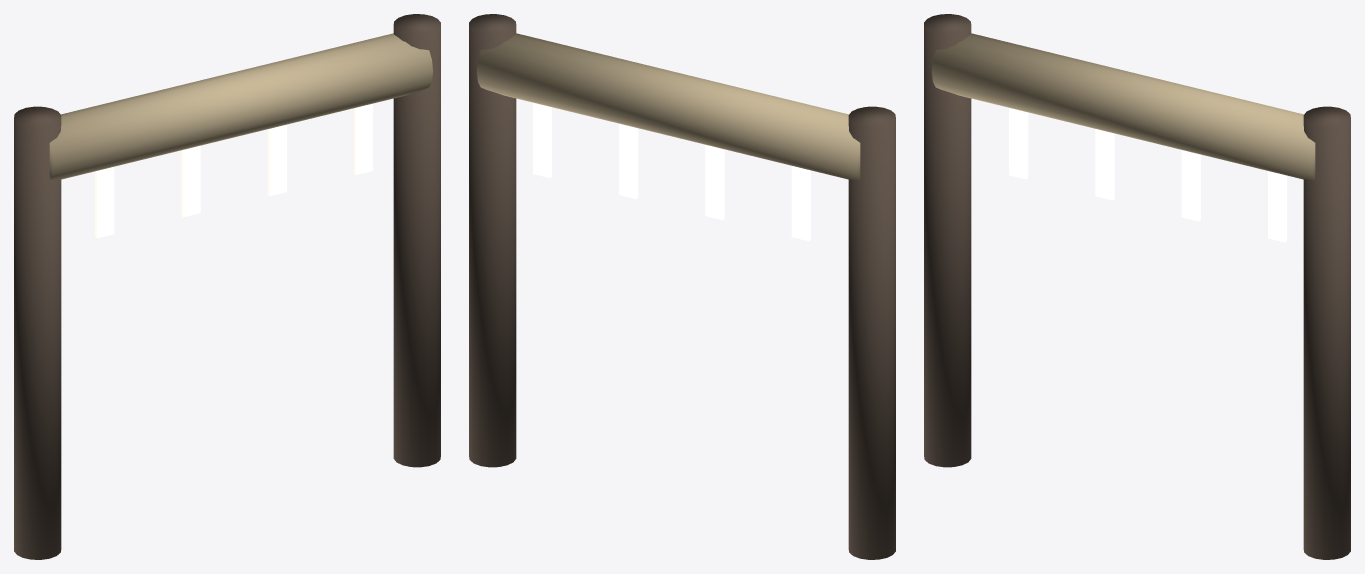
Rendered from prop_shimenawa_bashira.glb.
The picture shows the model from 3 angles, left to right: view 1: azimuth 30°, elevation 25°; view 2: azimuth 150°, elevation 25°; view 3: azimuth 330°, elevation 25°; orthographic projection.
Parts seen in each view (by area): view 1: shimenawa_bashira; view 2: shimenawa_bashira; view 3: shimenawa_bashira.
Part boxes in pixels (x1=…): shimenawa_bashira: x1=14, y1=14, x2=440, y2=559; shimenawa_bashira: x1=469, y1=14, x2=895, y2=559; shimenawa_bashira: x1=924, y1=14, x2=1350, y2=559.
Bounding box in the file's own units: 2.44 × 2.4 × 0.32.
